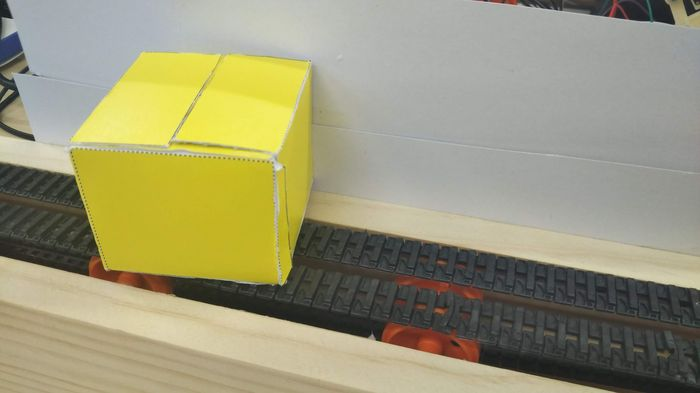box4: (67, 46, 318, 289)
